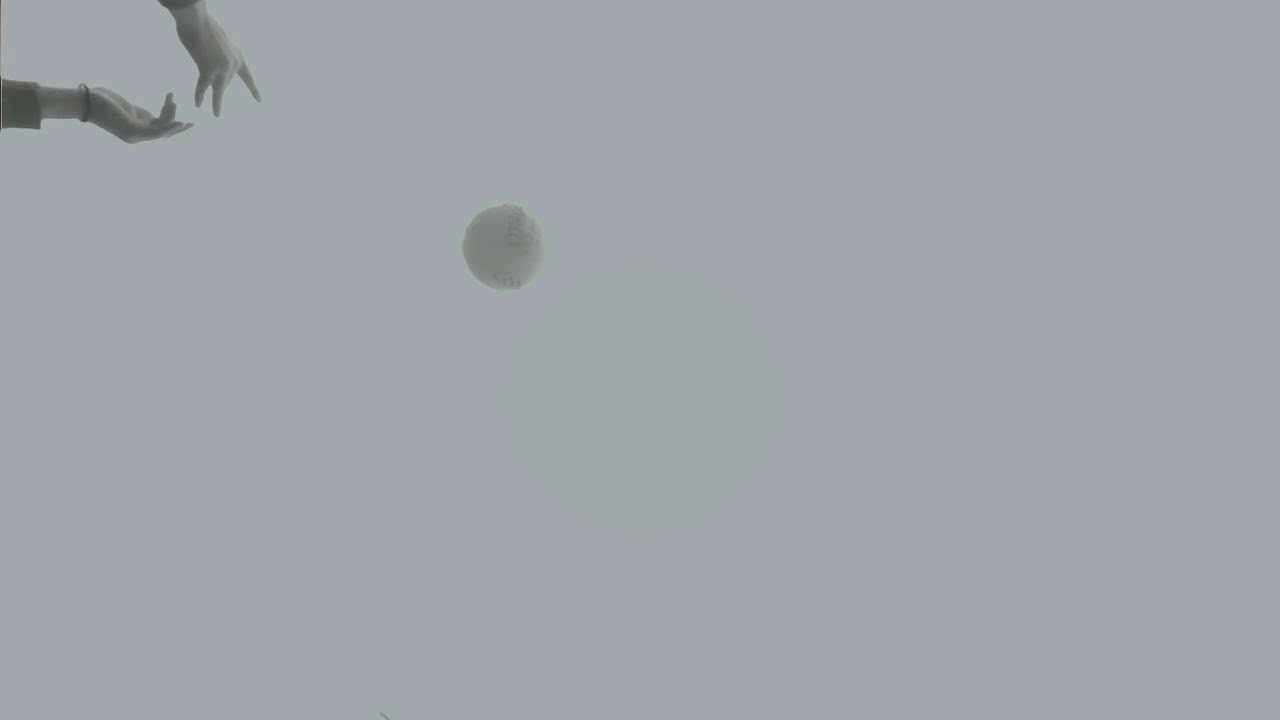Football-Spotter: (463, 204, 543, 289)
